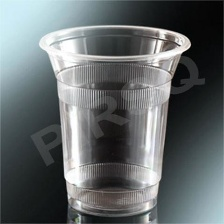glass: (36, 18, 197, 221)
